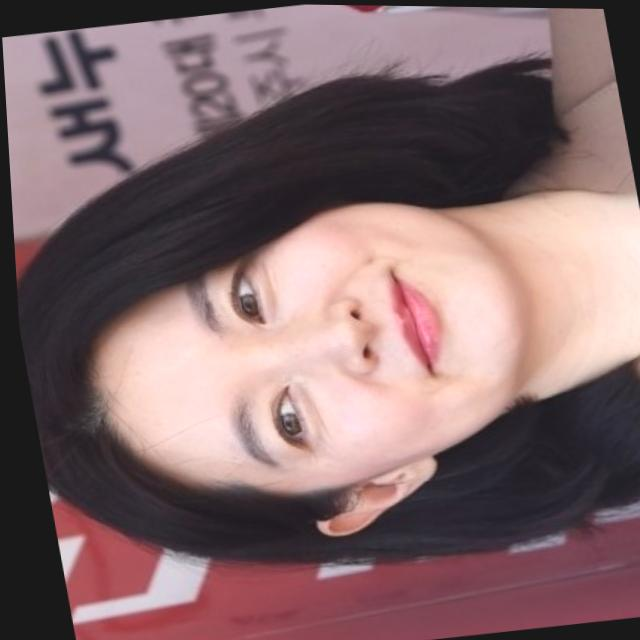face: (59, 170, 557, 526)
